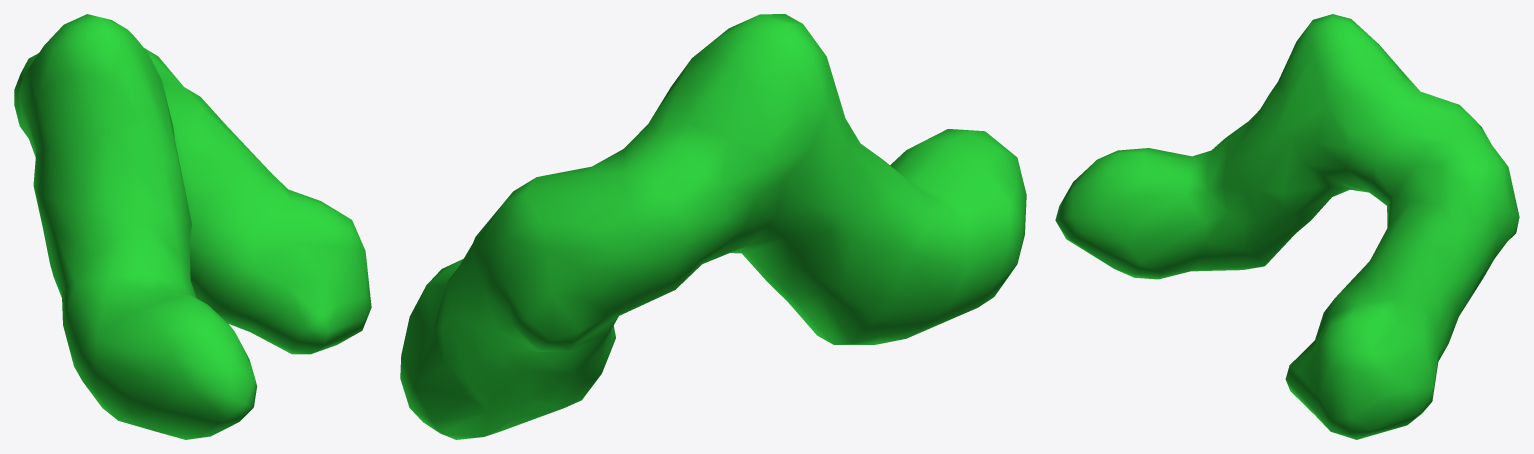
Rendered from Cyt_Vpr.fbx.
3 views of the same model, side by side, from view 1: azimuth 30°, elevation 25°; view 2: azimuth 150°, elevation 25°; view 3: azimuth 270°, elevation 25° (orthographic). The views are drawn at different scales.
Visible parts, largest first — view 1: CoarseMS_1esx; view 2: CoarseMS_1esx; view 3: CoarseMS_1esx.
Part boxes in pixels (<box>): CoarseMS_1esx: <box>14,14,371,439</box>; CoarseMS_1esx: <box>400,14,1026,439</box>; CoarseMS_1esx: <box>1055,14,1519,439</box>.
Size of the model in its own units: 63.09 by 59.64 by 78.46.
